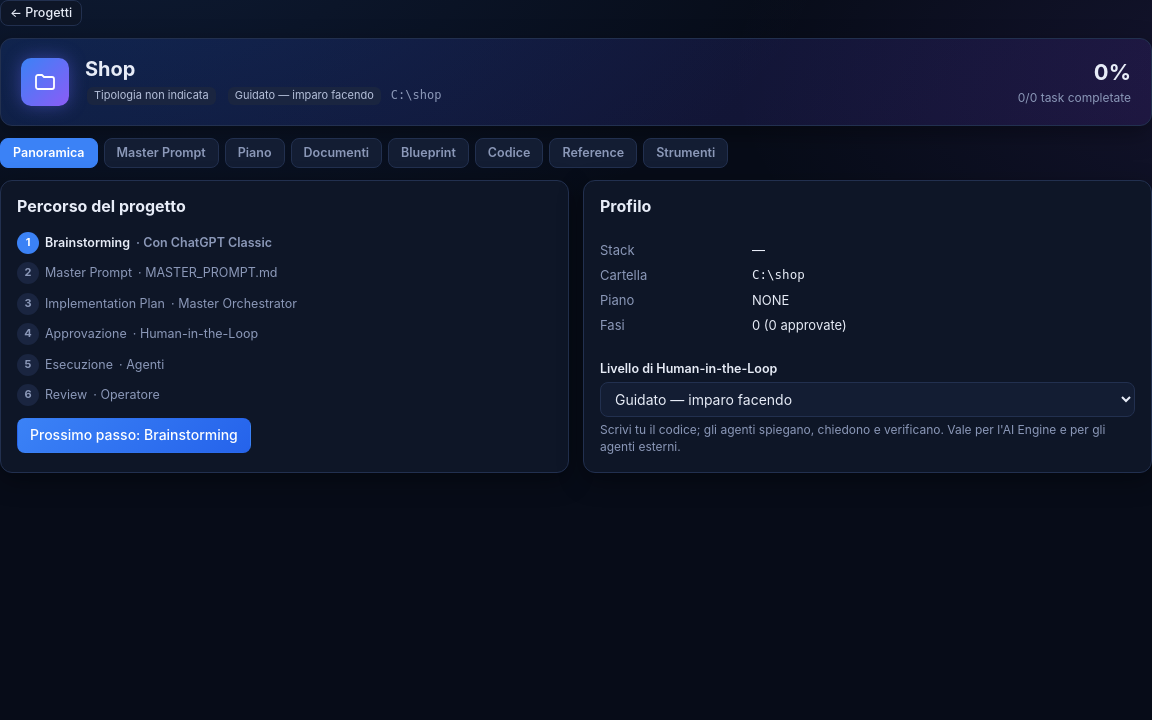
Test: Reference — deleting from the console (ADR-035 §5) › a failed delete says why, and the file stays listed
What coordinates should you click on to do the following:
click the tab "Reference"
I would click on:
 (593, 153)
Its box is left=549, top=138, right=637, bottom=168.
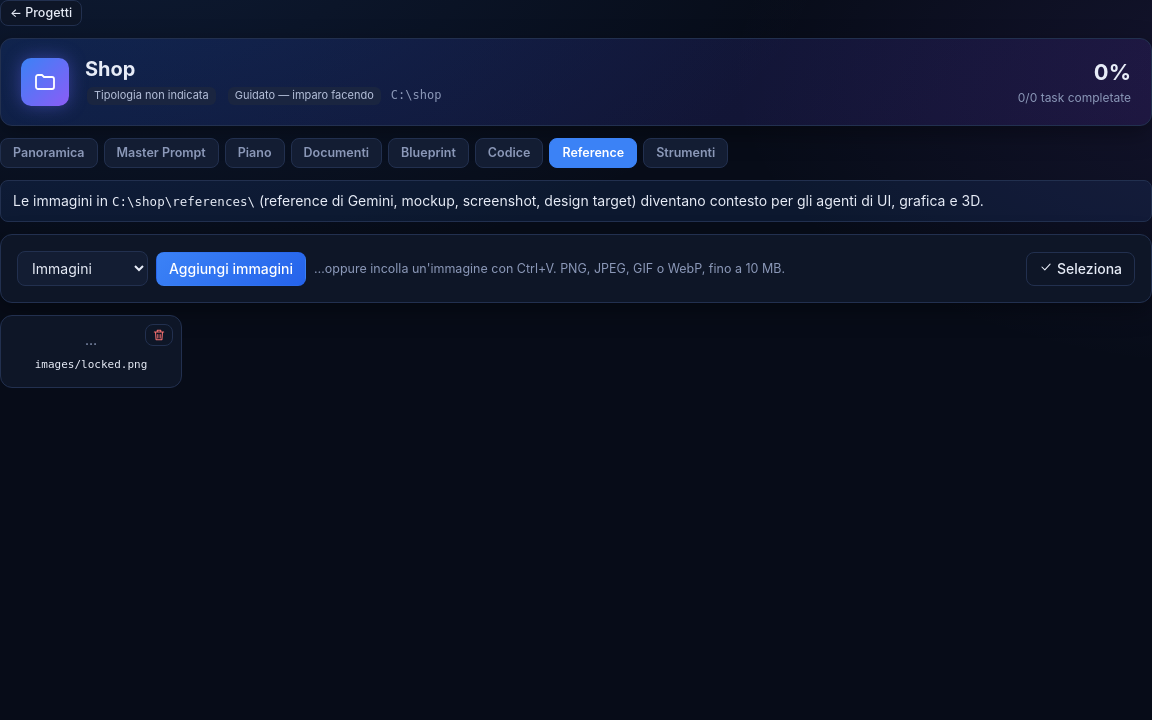
What coordinates should you click on to do the following:
click the button named "Elimina images/locked.png"
I would click on:
 (159, 336)
Its box is left=145, top=324, right=173, bottom=346.
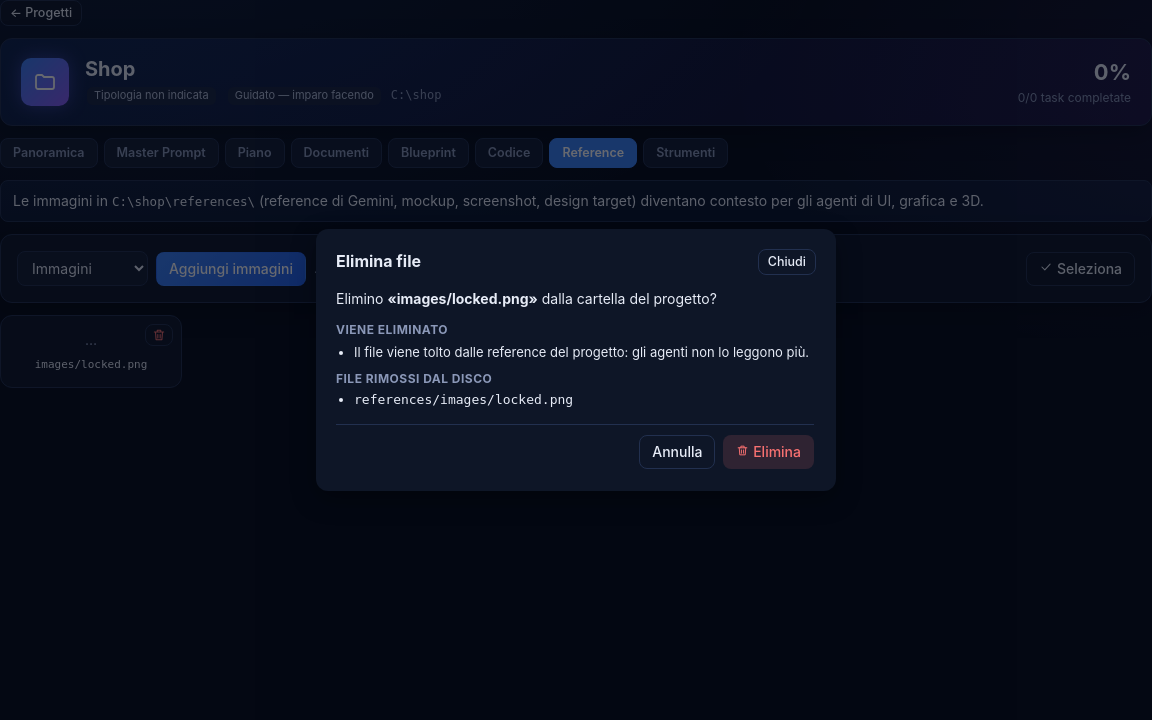
What coordinates should you click on to do the following:
click the button "Elimina"
I would click on:
 (769, 452)
Its box is left=723, top=435, right=814, bottom=469.
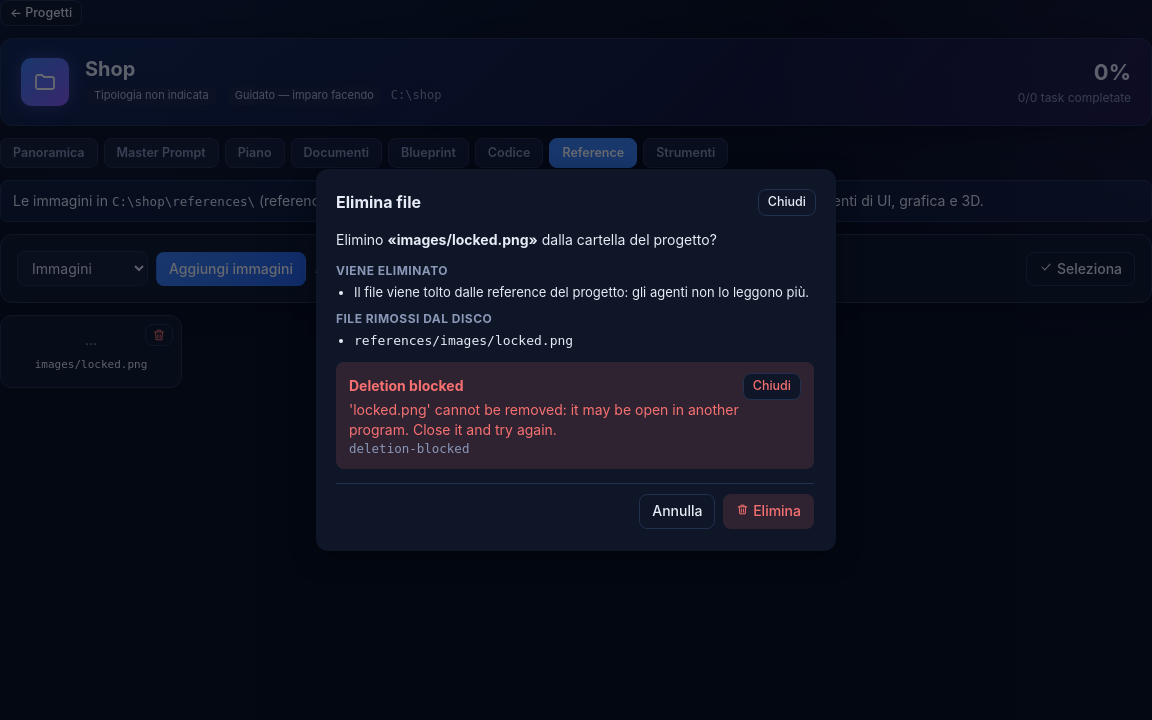
Expected: the text "images/locked.png" is shown, left=35, top=357, right=147, bottom=373
Expected: the text "open in another program" is shown, left=349, top=400, right=739, bottom=438
